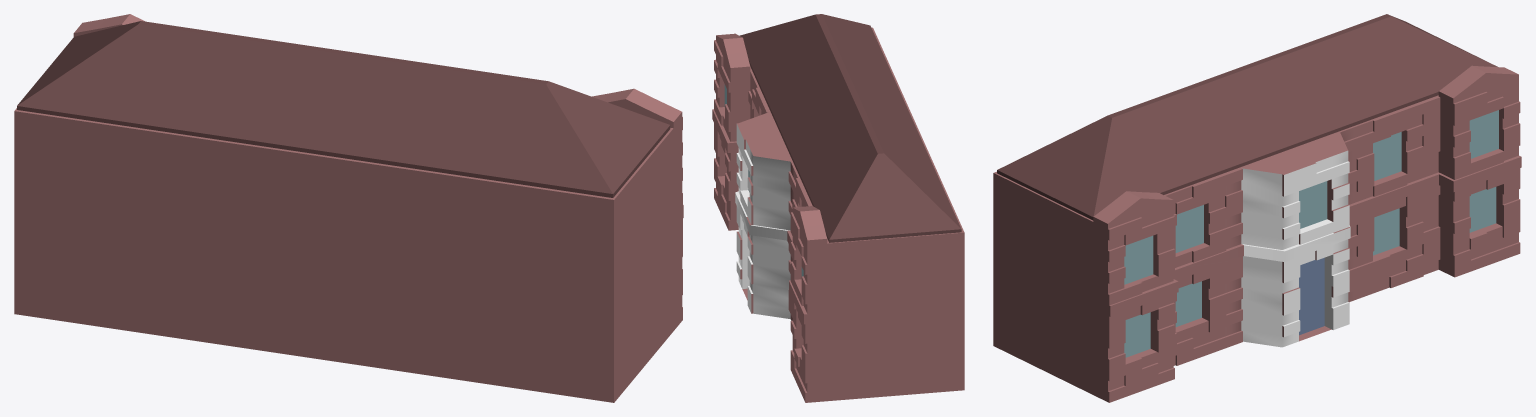
The model's file is nuclear_hub.fbx.
3 renders of one model, left to right at view 1: azimuth 30°, elevation 25°; view 2: azimuth 150°, elevation 25°; view 3: azimuth 270°, elevation 25°, orthographic. The views are drawn at different scales.
Parts seen in each view (by area): view 1: pCube58; view 2: pCube58; view 3: pCube58.
Part boxes in pixels (box(x1,y1,x2,y2)): pCube58: box(14, 14, 683, 402); pCube58: box(712, 14, 964, 402); pCube58: box(993, 14, 1521, 402).
Bounding box in the file's own units: 45.66 × 23.67 × 49.27.
